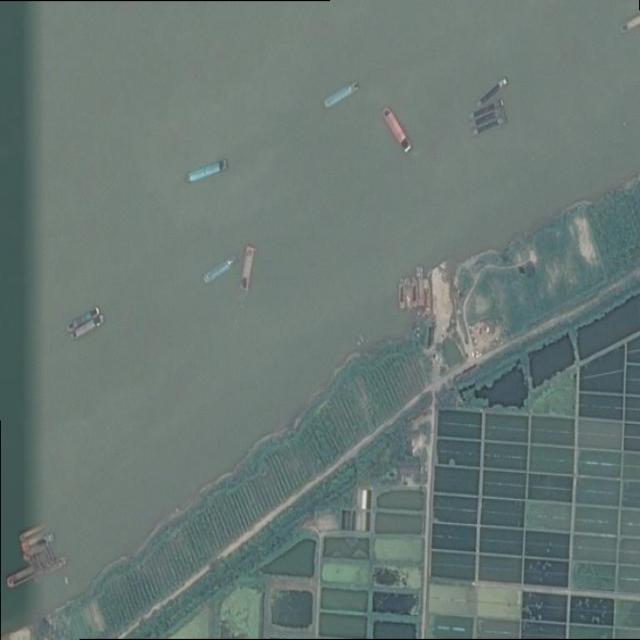ship: (382, 109, 412, 155), (187, 159, 229, 183), (324, 82, 361, 109), (477, 77, 509, 108), (203, 255, 237, 283), (71, 315, 104, 341), (68, 307, 100, 332), (471, 108, 506, 130), (470, 100, 505, 120), (241, 246, 256, 292), (474, 116, 507, 136), (38, 558, 66, 579), (22, 533, 52, 552), (7, 567, 34, 588), (18, 523, 47, 542), (24, 543, 52, 562), (416, 266, 424, 306), (425, 280, 432, 311), (399, 279, 405, 307), (406, 279, 412, 307), (412, 277, 416, 307)
